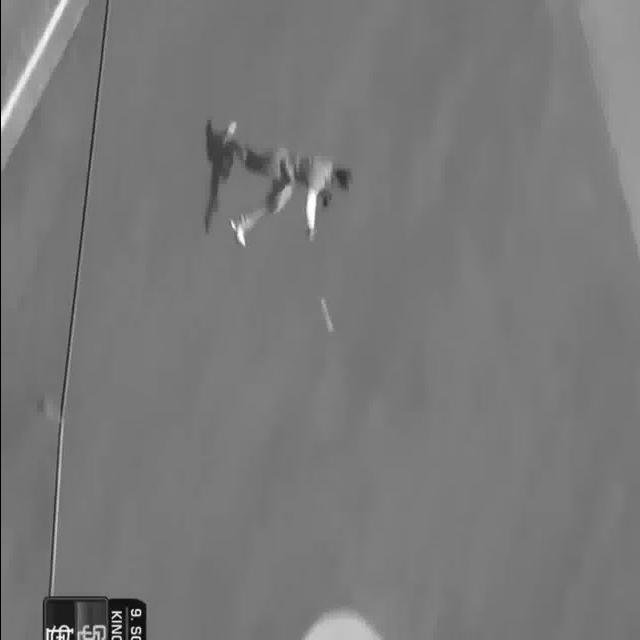baseball: (318, 298, 332, 335)
baseball_glove: (314, 192, 330, 212)
shoe: (228, 217, 248, 245), (218, 121, 234, 148)
